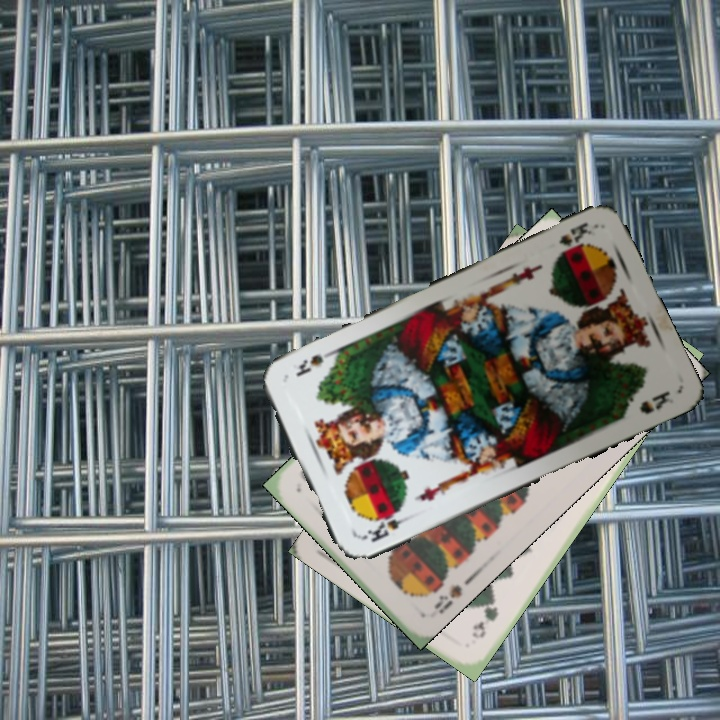G9: (468, 595, 501, 642)
S8: (429, 580, 465, 617)
SK: (358, 511, 415, 545), (554, 218, 594, 257)
